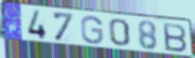0: (108, 18, 133, 48)
4: (27, 9, 48, 41)
7: (52, 11, 76, 43)
8: (137, 20, 159, 52)
B: (161, 22, 188, 54)
G: (80, 15, 105, 46)
